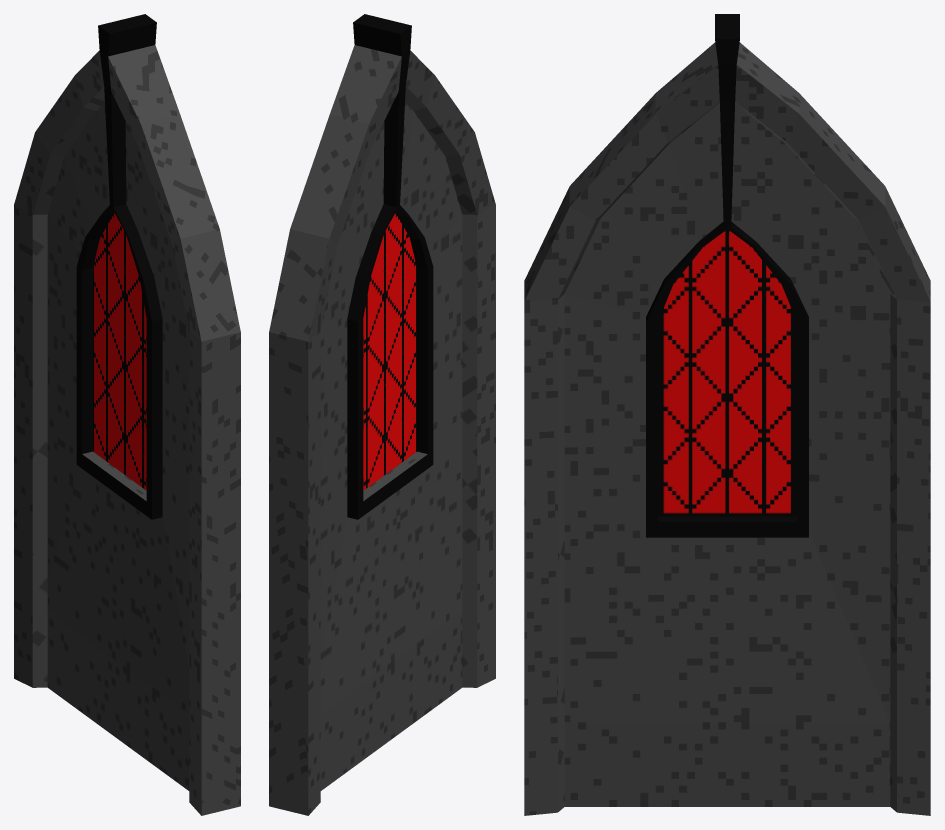
The model's file is CastleWindow.fbx.
3 renders of one model, left to right at view 1: azimuth 30°, elevation 25°; view 2: azimuth 150°, elevation 25°; view 3: azimuth 270°, elevation 25°, orthographic. The views are drawn at different scales.
Visible parts, largest first — view 1: Cube; view 2: Cube; view 3: Cube.
Boxes of the visible parts, bbox=[...] form: Cube: bbox=[14, 14, 240, 815]; Cube: bbox=[269, 14, 495, 815]; Cube: bbox=[524, 14, 930, 815].
Bounding box in the file's own units: 86.39 × 1253 × 592.
